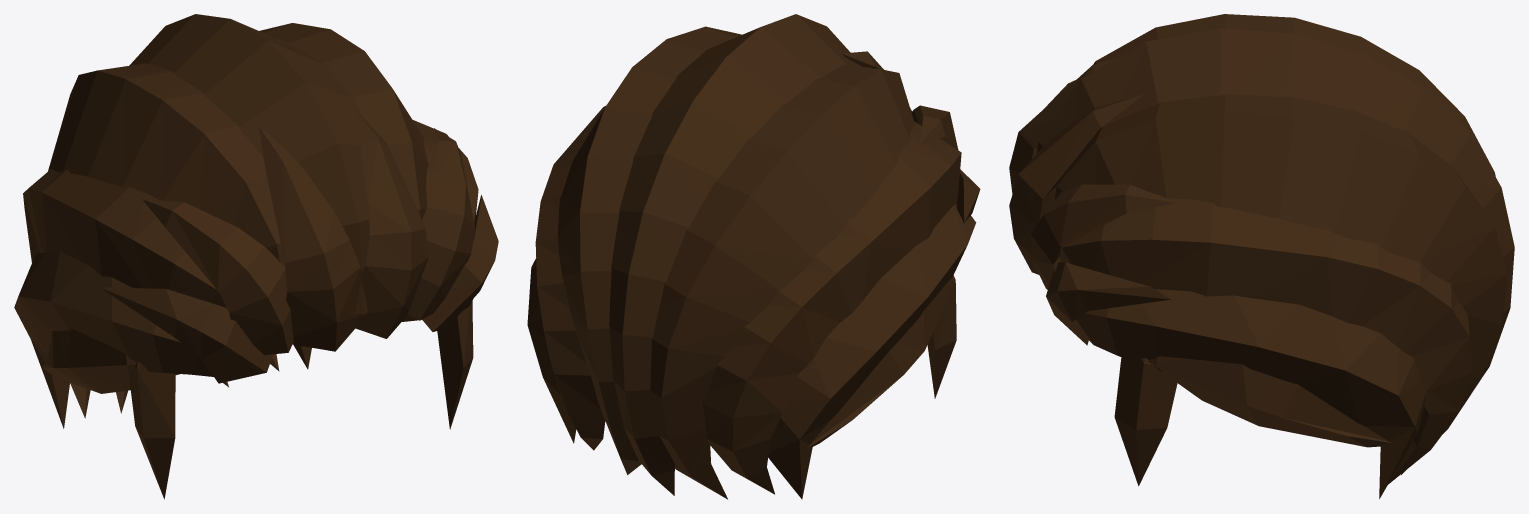
File: hair-tousled.high.ca563452.glb
3 renders of one model, left to right at view 1: azimuth 30°, elevation 25°; view 2: azimuth 150°, elevation 25°; view 3: azimuth 270°, elevation 25°, orthographic. The views are drawn at different scales.
Parts seen in each view (by area): view 1: hair-tousled; view 2: hair-tousled; view 3: hair-tousled.
Part boxes in pixels (x1=…): hair-tousled: x1=14, y1=14, x2=498, y2=499; hair-tousled: x1=527, y1=14, x2=980, y2=499; hair-tousled: x1=1009, y1=14, x2=1514, y2=498.
Size of the model in its own units: 0.2275 by 0.2408 by 0.2564.
